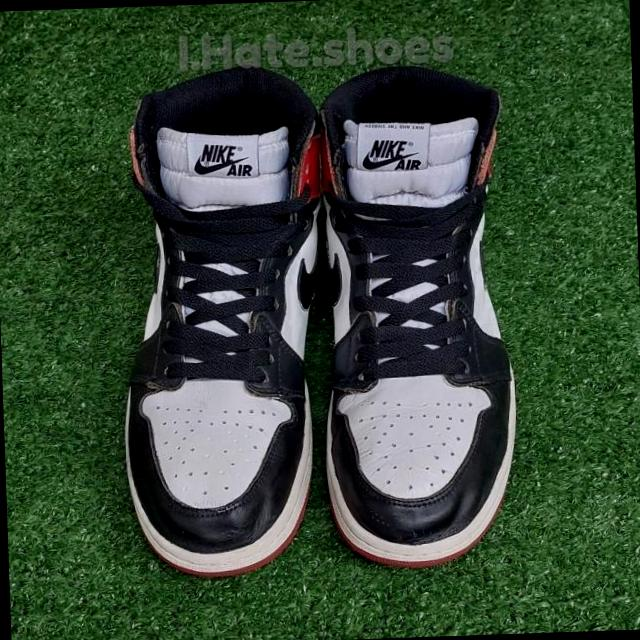nike_fake_jordan: (109, 68, 338, 576), (308, 62, 526, 570)
